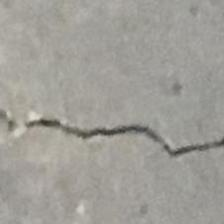Crack: (0, 100, 224, 174)
